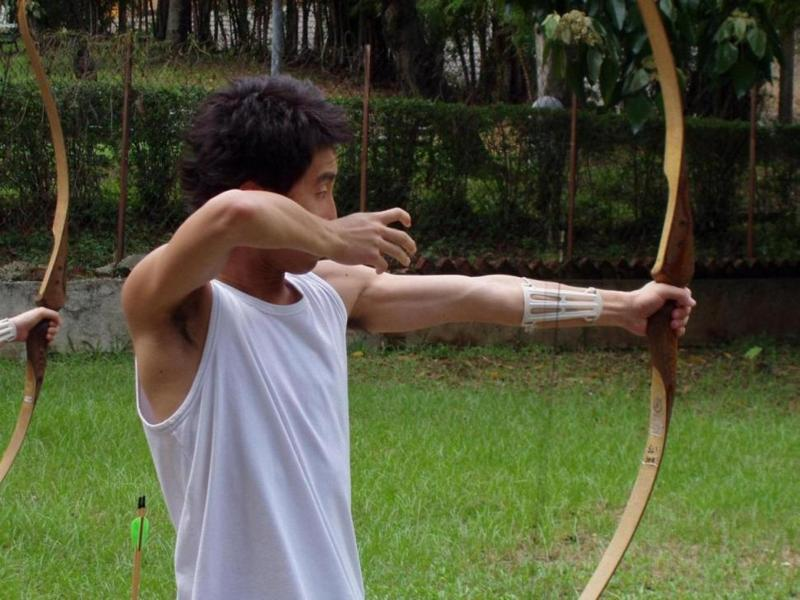person: (117, 75, 703, 599)
